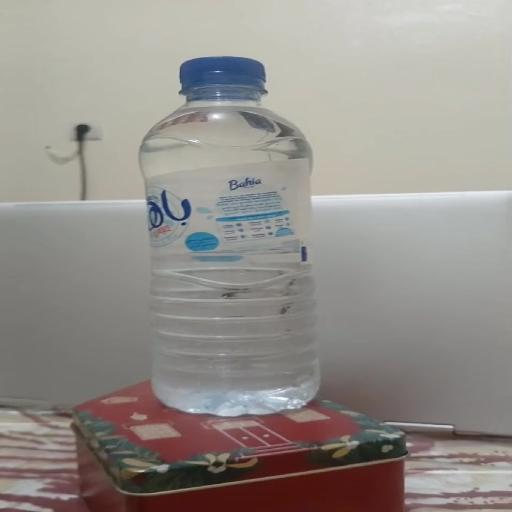bouteille conformite: (107, 62, 330, 432)
